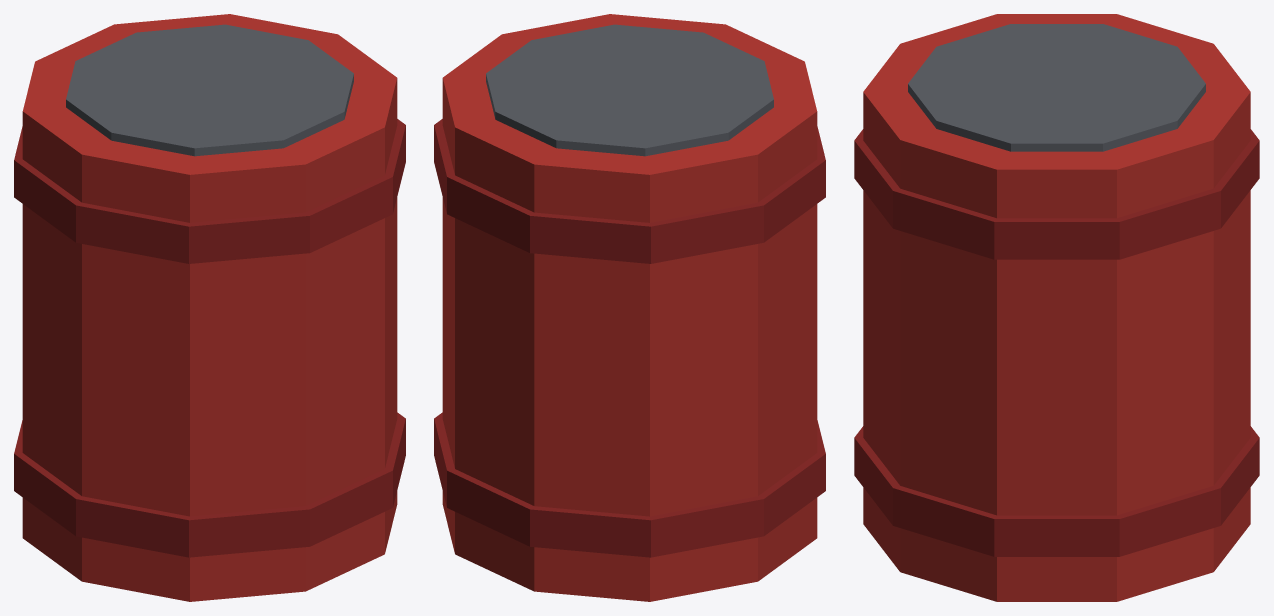
The model's file is Scatter_Barrel.fbx.
The picture shows the model from 3 angles, left to right: view 1: azimuth 30°, elevation 25°; view 2: azimuth 150°, elevation 25°; view 3: azimuth 270°, elevation 25°; orthographic projection.
Parts seen in each view (by area): view 1: Barrel; view 2: Barrel; view 3: Barrel.
Part boxes in pixels (x1,y1,x2,y2): Barrel: (14, 14, 405, 601); Barrel: (434, 14, 825, 601); Barrel: (854, 14, 1259, 601).
Size of the model in its own units: 2.59 by 3.26 by 2.72.
